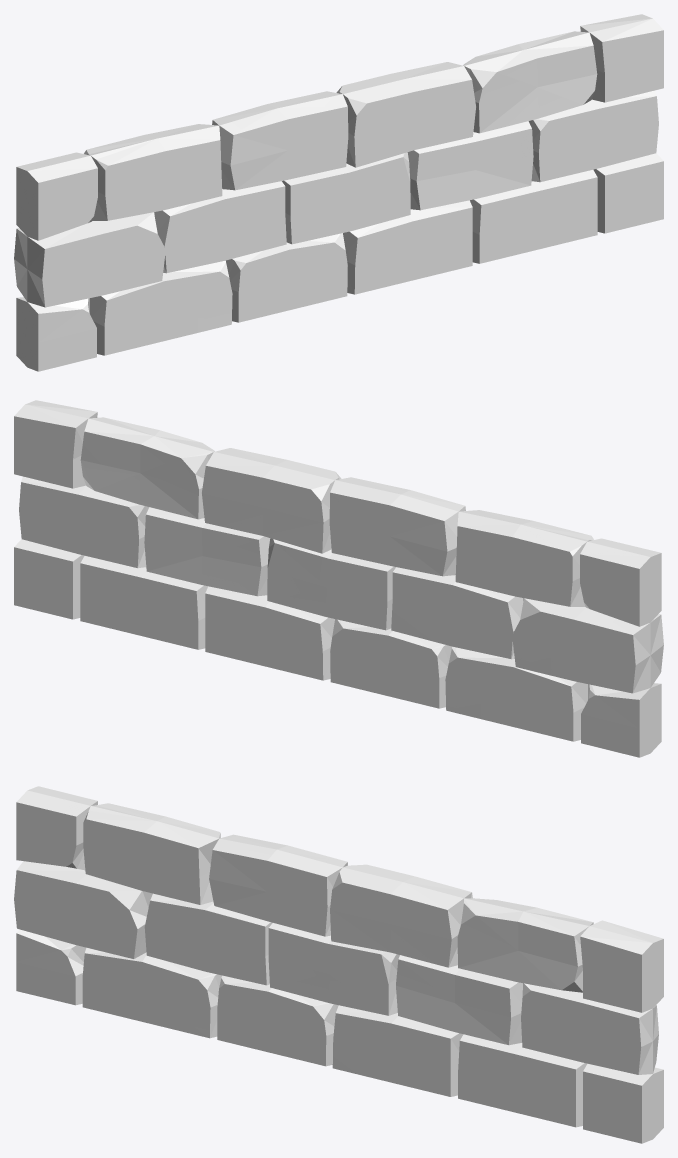
The model's file is StoneFence.fbx.
The picture shows the model from 3 angles, top to bottom: view 1: azimuth 30°, elevation 25°; view 2: azimuth 150°, elevation 25°; view 3: azimuth 330°, elevation 25°; orthographic projection.
Visible parts, largest first — view 1: Wall_02; view 2: Wall_02; view 3: Wall_02.
Boxes of the visible parts, x1=… form: Wall_02: x1=14, y1=14, x2=663, y2=371; Wall_02: x1=14, y1=400, x2=663, y2=757; Wall_02: x1=14, y1=786, x2=663, y2=1143.
Bounding box in the file's own units: 400 × 121 × 31.36.
